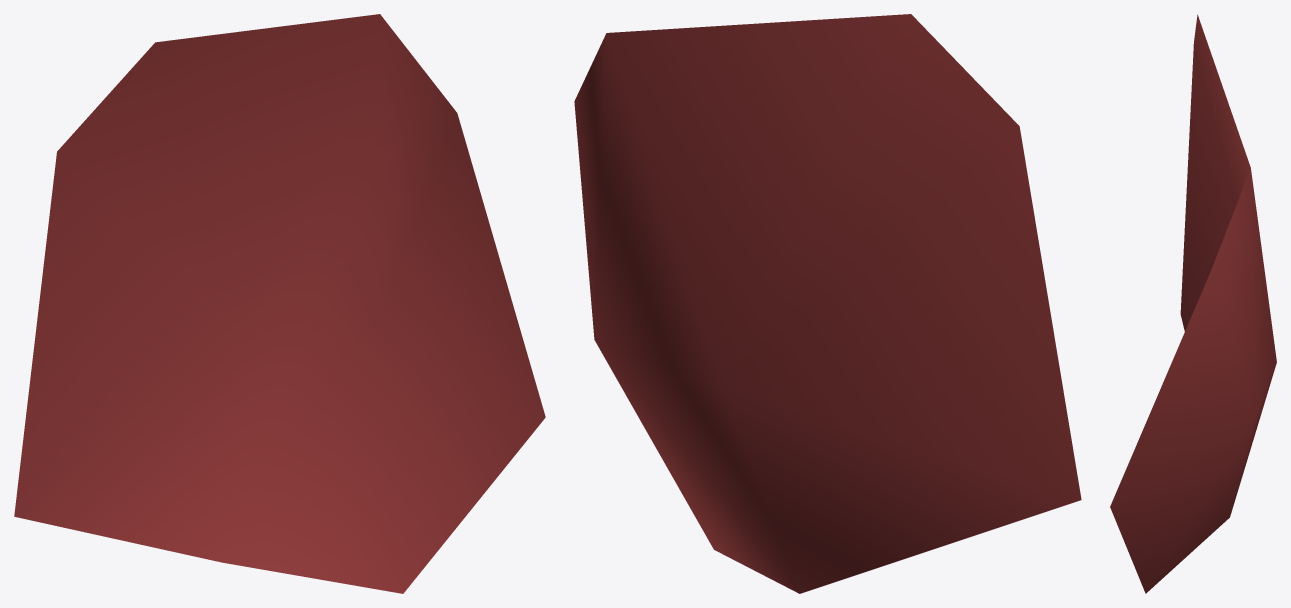
File: longissimus-thoracis-muscle-e15l.glb
The picture shows the model from 3 angles, left to right: view 1: azimuth 30°, elevation 25°; view 2: azimuth 150°, elevation 25°; view 3: azimuth 270°, elevation 25°; orthographic projection. The views are drawn at different scales.
Parts seen in each view (by area): view 1: Longissimus thoracis muscle.e15l; view 2: Longissimus thoracis muscle.e15l; view 3: Longissimus thoracis muscle.e15l.
Part boxes in pixels (box(x1,y1,x2,y2)): Longissimus thoracis muscle.e15l: box(14, 14, 545, 593); Longissimus thoracis muscle.e15l: box(574, 14, 1081, 593); Longissimus thoracis muscle.e15l: box(1110, 14, 1276, 593).
Bounding box in the file's own units: 0.00554 × 0.00629 × 0.00194.
